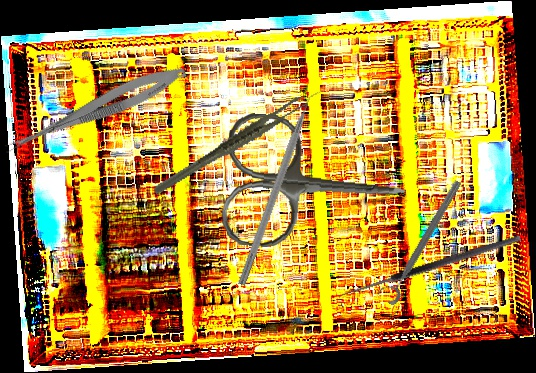Chopper: (237, 83, 329, 291)
Fixation Ring: (375, 174, 465, 307)
Hook Surgical: (336, 232, 525, 310)
Iris Scissors: (219, 111, 411, 259)
Micro Scissor: (0, 56, 191, 165)
Tissue Forceps: (141, 94, 319, 196)
